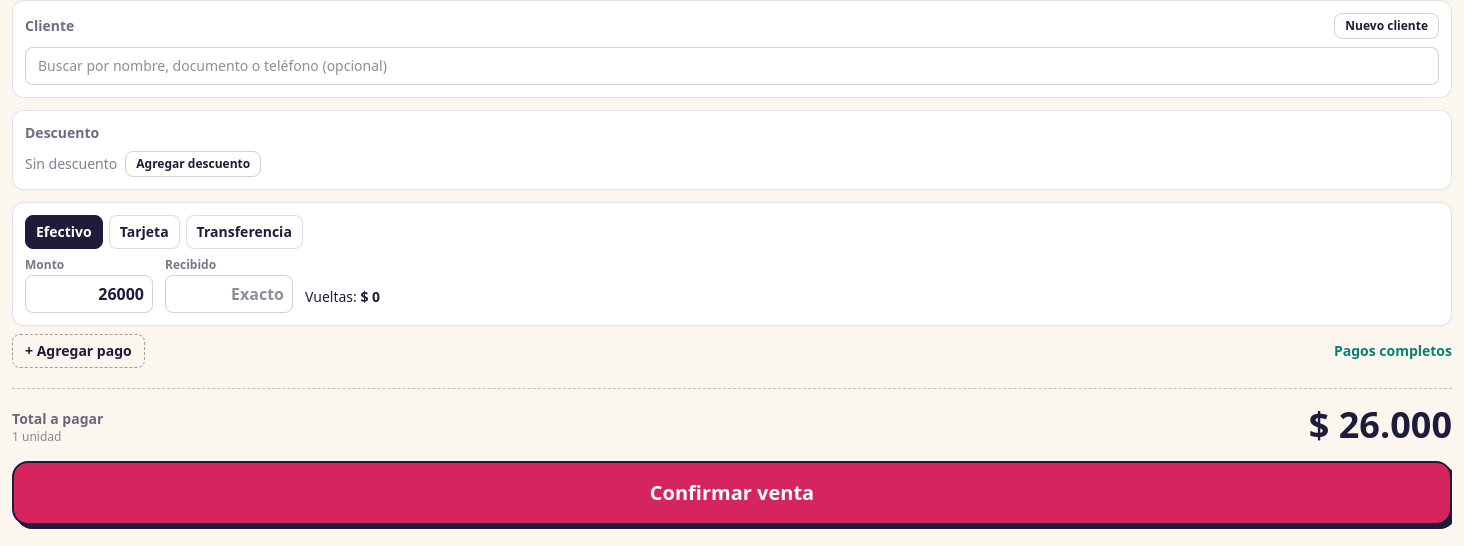
Test case: ConfirmacionPago — pagos › muestra las vueltas del efectivo
Type "50000" into the field named "Recibido en el pago" at (229,294), box [165,275,293,313]
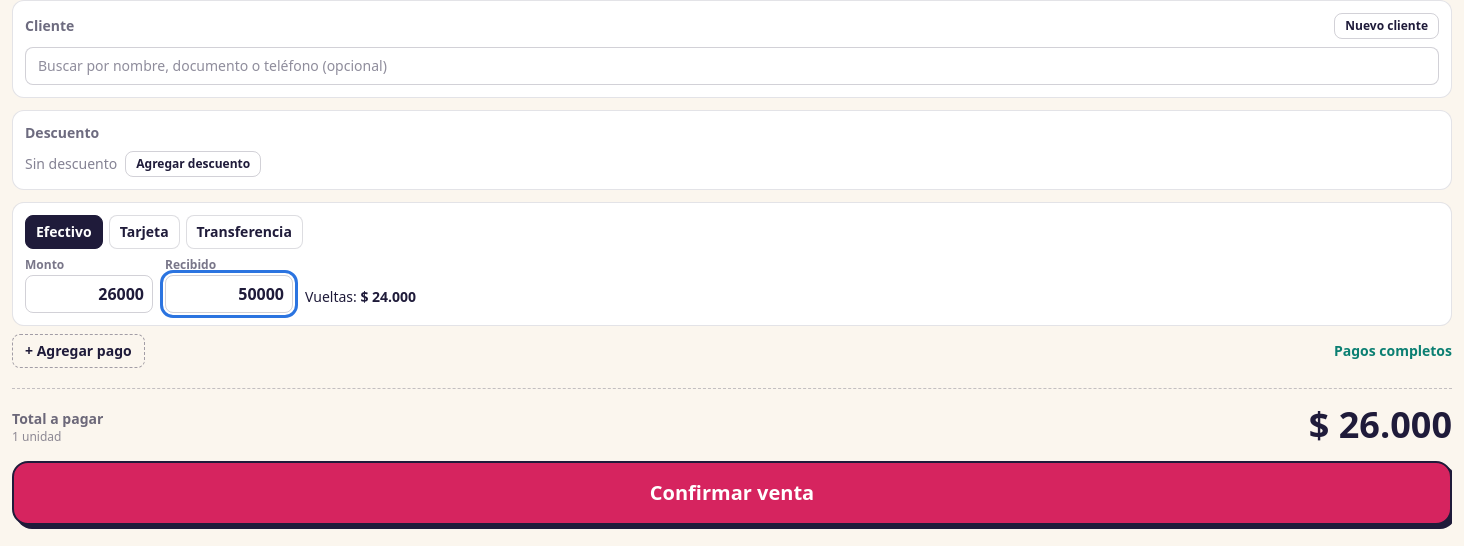
Check: the text "Vueltas: $ 24.000" is shown, box [305,287,416,313]
